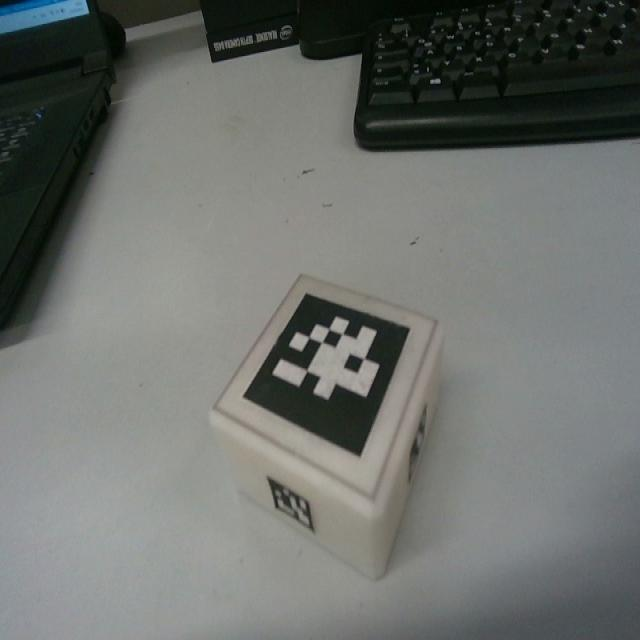Cube: (208, 271, 444, 580)
